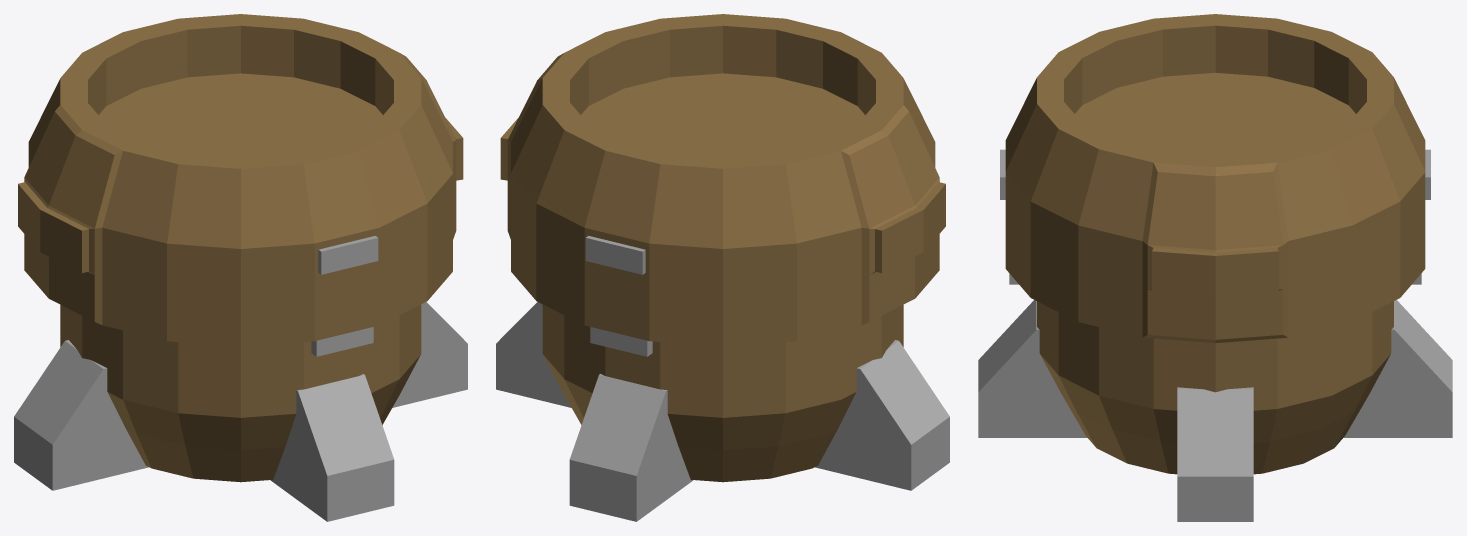
File: pot2.fbx
The picture shows the model from 3 angles, left to right: view 1: azimuth 30°, elevation 25°; view 2: azimuth 150°, elevation 25°; view 3: azimuth 270°, elevation 25°; orthographic projection.
Visible parts, largest first — view 1: polySurface7, polySurface12, polySurface8, polySurface10; view 2: polySurface7, polySurface12, polySurface9, polySurface11; view 3: polySurface7, polySurface12.
Part boxes in pixels (x1,y1,x2,y2): polySurface7: [18, 14, 463, 482]; polySurface12: [14, 302, 467, 521]; polySurface8: [318, 236, 378, 274]; polySurface10: [311, 327, 373, 356]; polySurface7: [500, 14, 945, 482]; polySurface12: [496, 302, 949, 521]; polySurface9: [585, 236, 645, 274]; polySurface11: [590, 327, 652, 356]; polySurface7: [1005, 14, 1425, 474]; polySurface12: [978, 300, 1452, 521].
Bounding box in the file's own units: 0.7738 × 0.596 × 0.7738.
